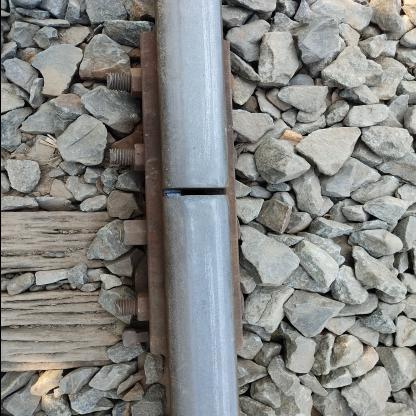Non Defective: (75, 24, 178, 346), (148, 167, 234, 216)
